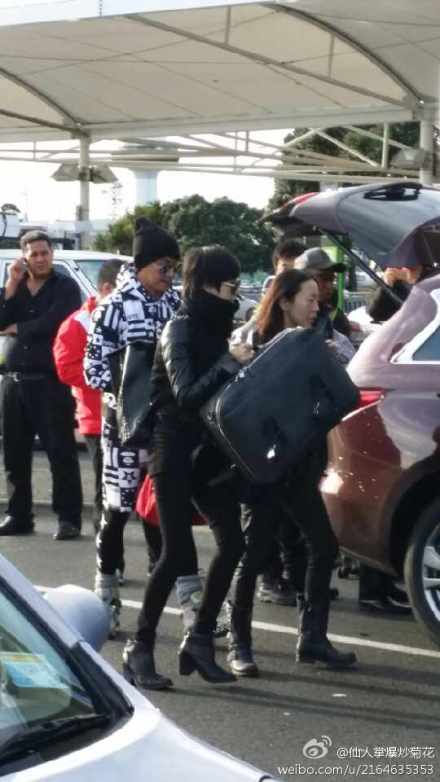handsup: (7, 225, 91, 545)
other: (122, 243, 263, 699), (98, 214, 219, 641)
